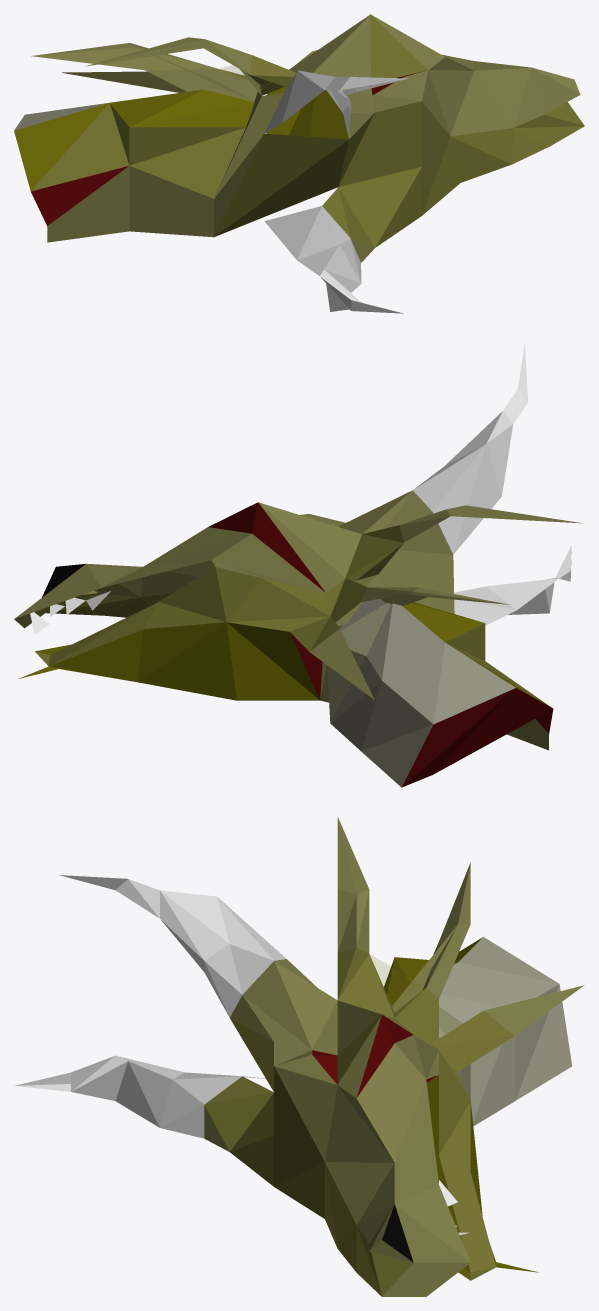
The model's file is head.fbx.
The picture shows the model from 3 angles, top to bottom: view 1: azimuth 30°, elevation 25°; view 2: azimuth 150°, elevation 25°; view 3: azimuth 270°, elevation 25°; orthographic projection. The views are drawn at different scales.
Visible parts, largest first — view 1: Elvarg's_head_11279; view 2: Elvarg's_head_11279; view 3: Elvarg's_head_11279.
Boxes of the visible parts, <box> form: Elvarg's_head_11279: <box>14,14,584,313</box>; Elvarg's_head_11279: <box>14,343,582,787</box>; Elvarg's_head_11279: <box>14,817,584,1296</box>.
Size of the model in its own units: 10200 by 4400 by 9000.
